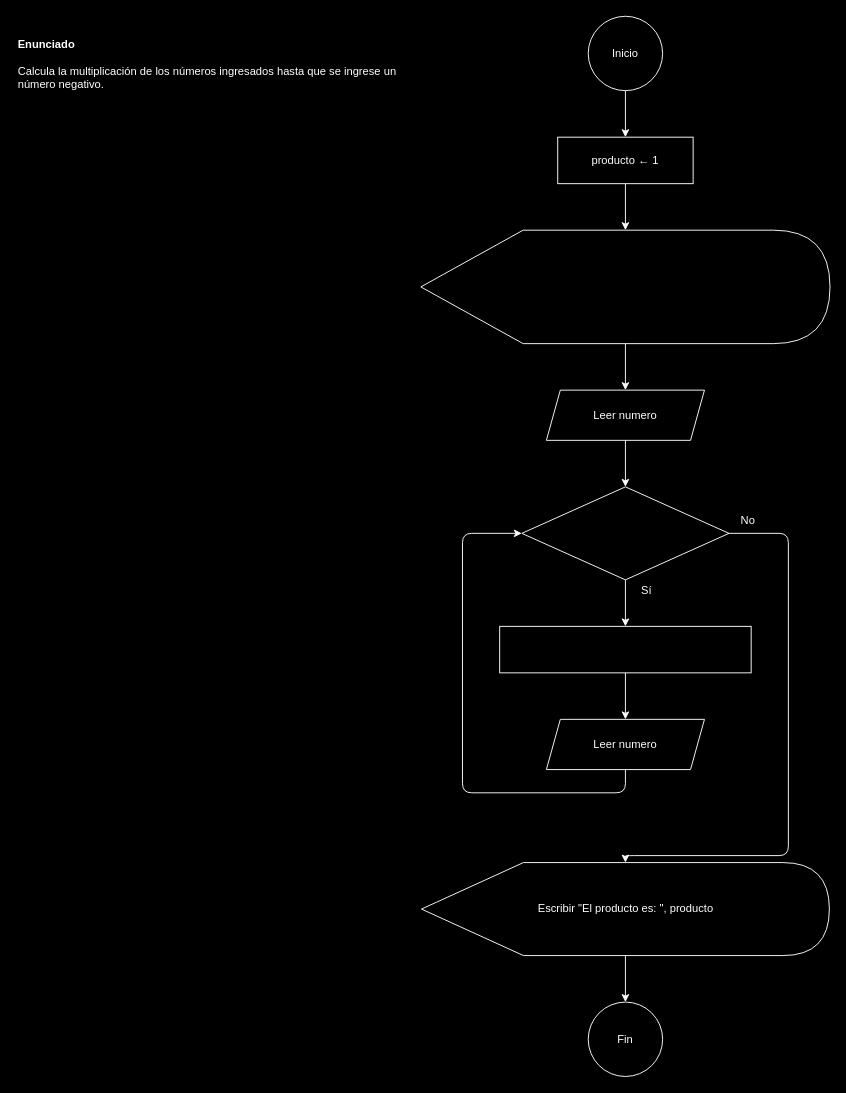
The diagram is 846 pixels wide and 1093 high, and some of its shapes have lost their labels. The box of each missing label's shape, as (x1, y1, x2, y2) in pixels:
Escribir "Ingrese números (un negativo para terminar):": (420, 229, 830, 344)
producto ← producto * numero: (499, 625, 751, 673)
¿numero >= 0?: (521, 486, 729, 580)
